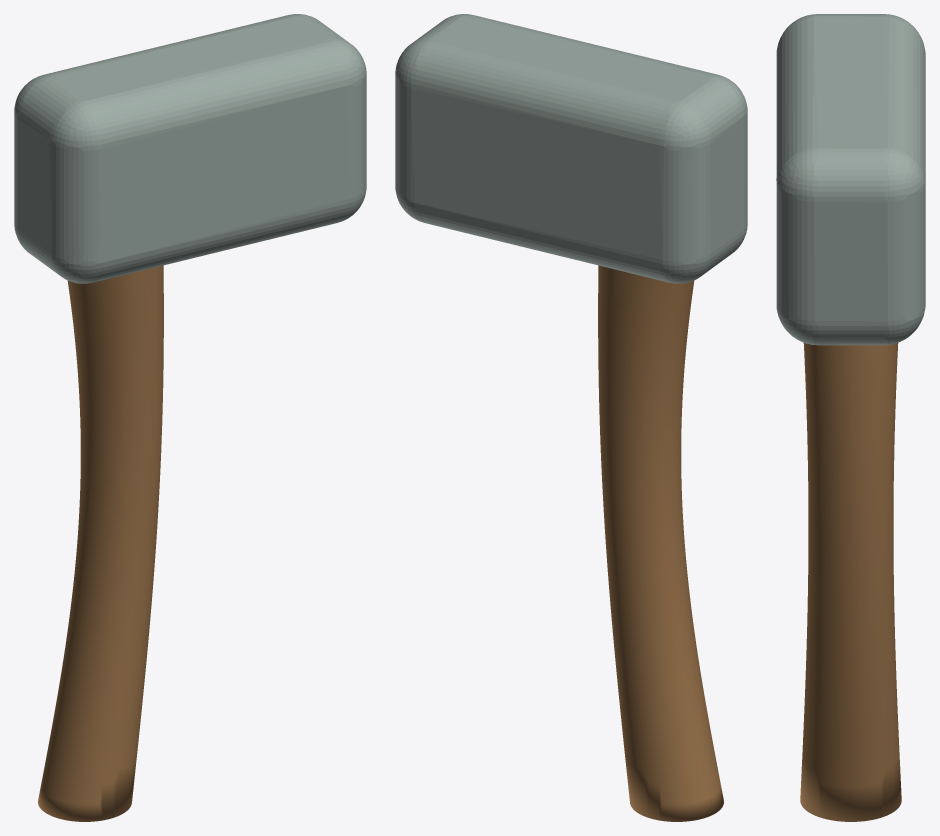
File: reduced-7000.glb
3 views of the same model, side by side, from view 1: azimuth 30°, elevation 25°; view 2: azimuth 150°, elevation 25°; view 3: azimuth 270°, elevation 25° (orthographic). The views are drawn at different scales.
Visible parts, largest first — view 1: Cube.002, Handle.002; view 2: Cube.002, Handle.002; view 3: Cube.002, Handle.002.
Boxes of the visible parts, <box> form: Cube.002: <box>14,14,366,283</box>; Handle.002: <box>38,265,163,821</box>; Cube.002: <box>395,14,747,283</box>; Handle.002: <box>598,265,723,821</box>; Cube.002: <box>776,14,925,345</box>; Handle.002: <box>800,343,901,821</box>.
Size of the model in its own units: 0.6495 by 1.43 by 0.2495.
